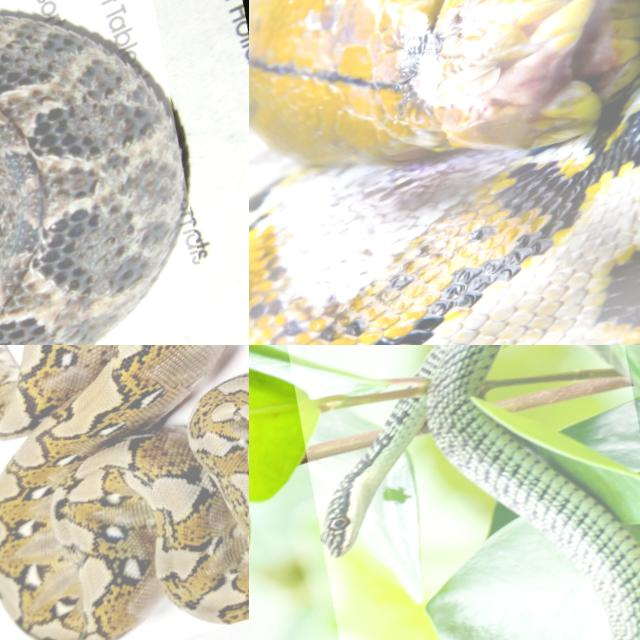Calloselasma rhodostoma: (0, 12, 182, 344)
Chrysopelea ornata: (322, 345, 639, 639)
Malayopython reticulatus: (249, 0, 639, 344), (0, 345, 248, 639)
